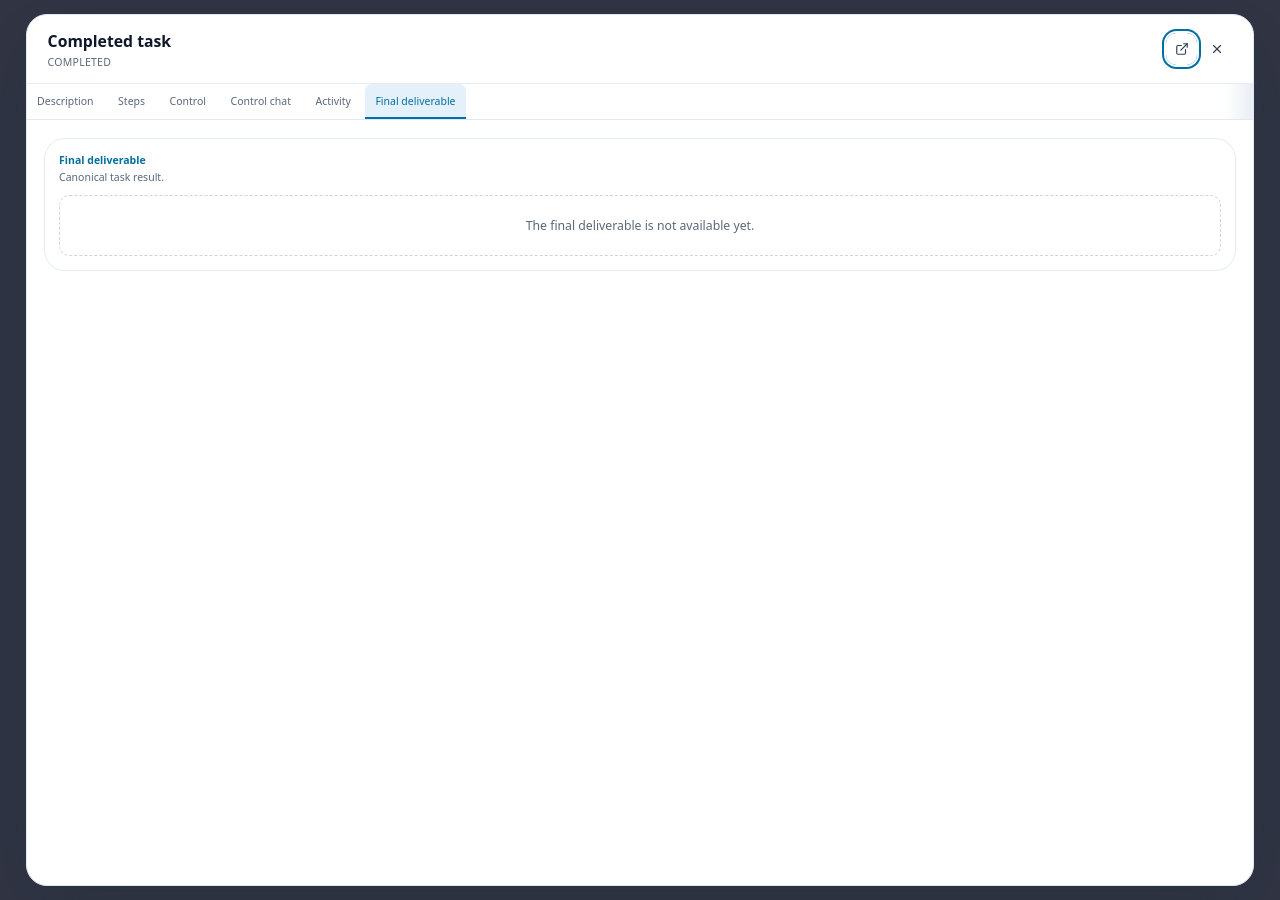
Test: DashboardEntityModal › keeps task details usable when lazy control chat is forbidden
The width and height of the screenshot is (1280, 900).
Click the tab with test id "dashboard-task-modal-tab-control-chat": (261,102) left=220, top=84, right=301, bottom=119
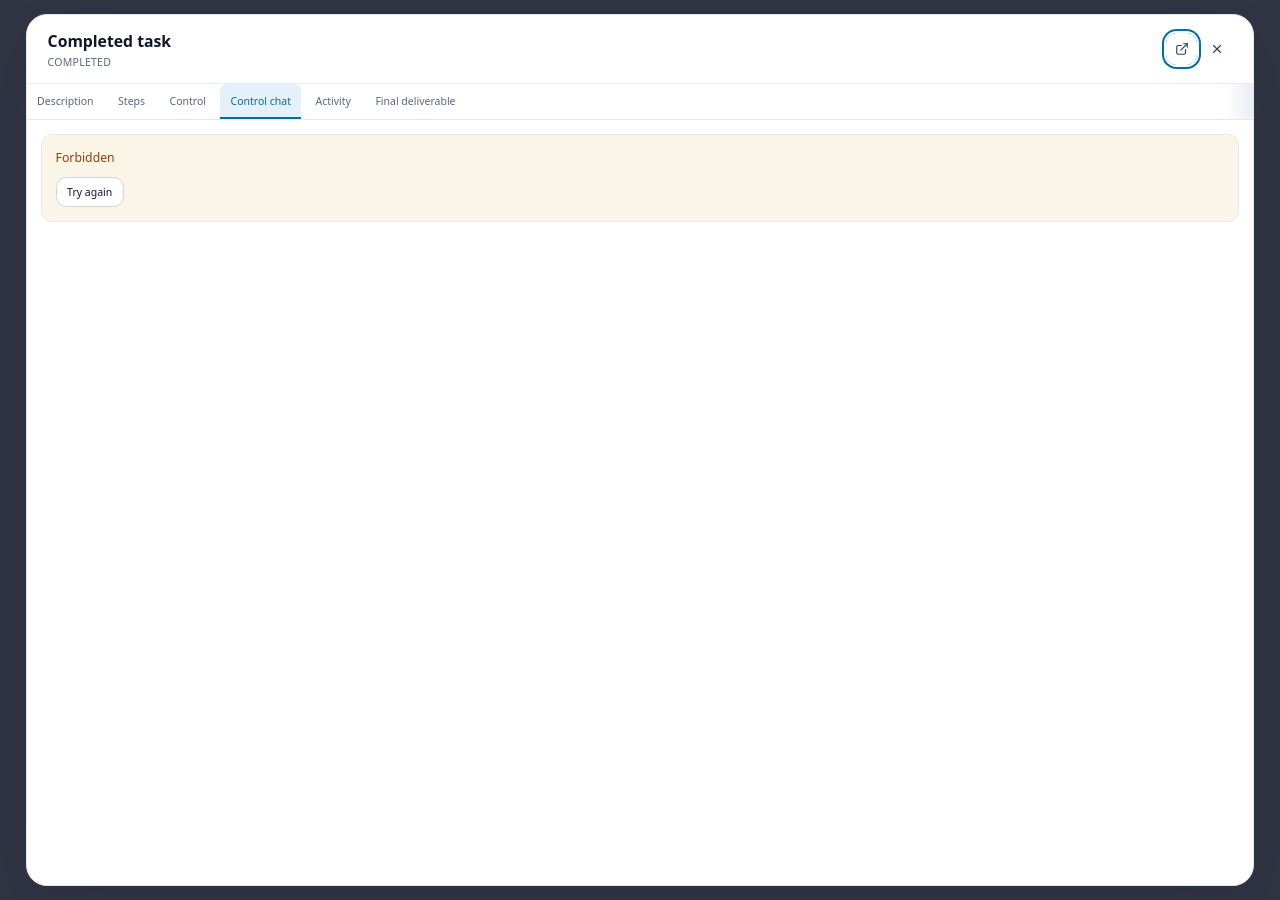
expect the message shows "Forbidden": met, box left=56, top=149, right=115, bottom=166
Click the tab with test id "dashboard-task-modal-tab-description": (65,102) left=27, top=84, right=104, bottom=119
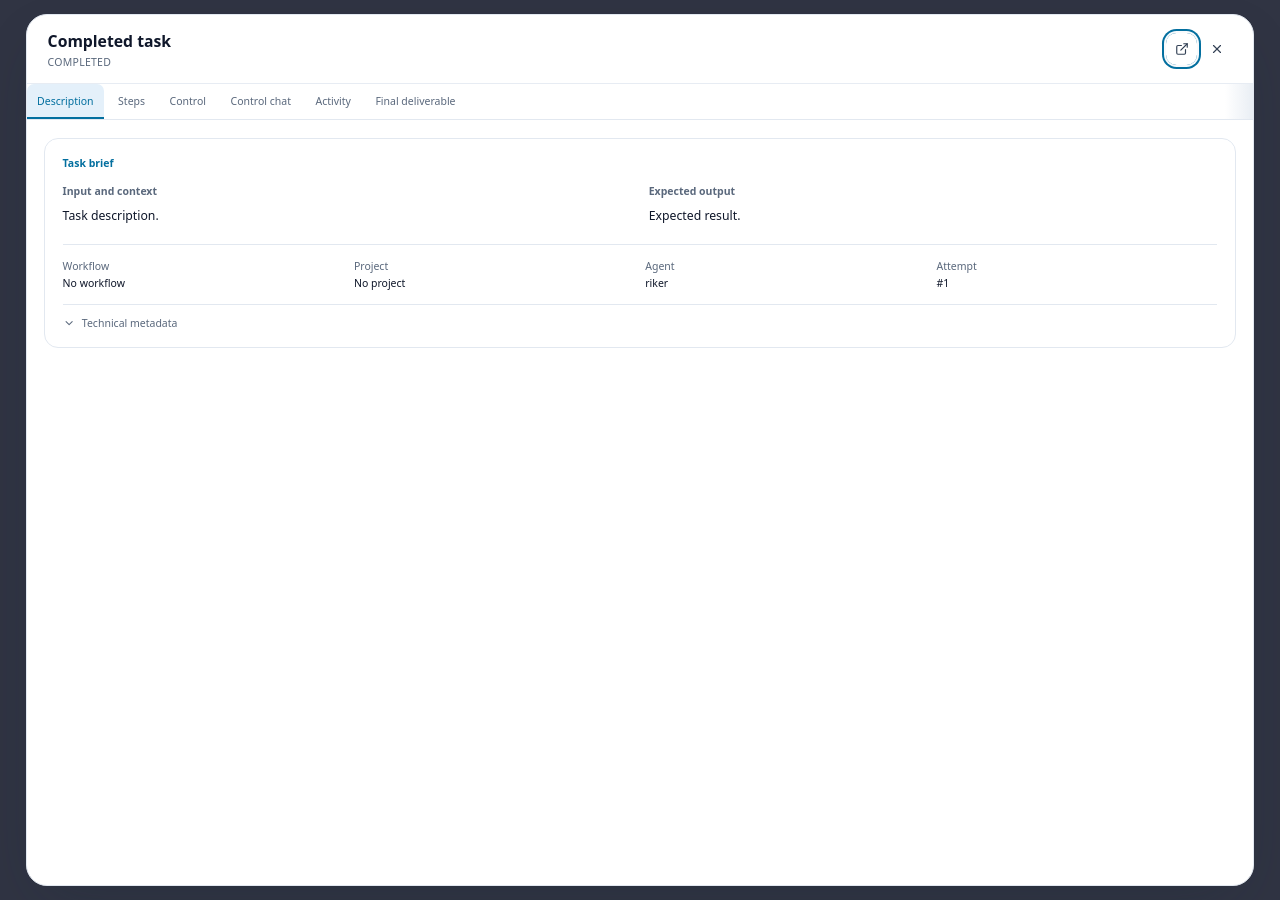
expect the element with test id "task-brief" is shown: met, box left=44, top=138, right=1236, bottom=348
